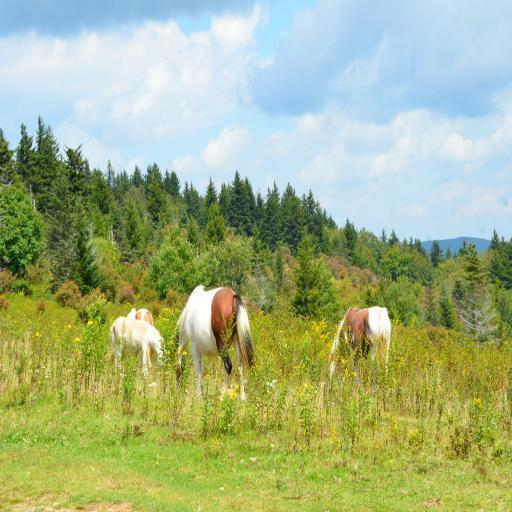horse: (172, 284, 256, 400), (328, 308, 392, 386), (110, 318, 166, 378), (128, 308, 154, 368)
